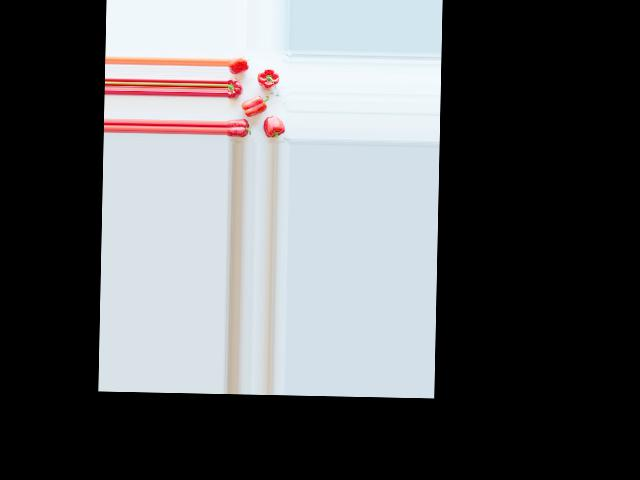bell_pepper: (227, 78, 244, 99)
